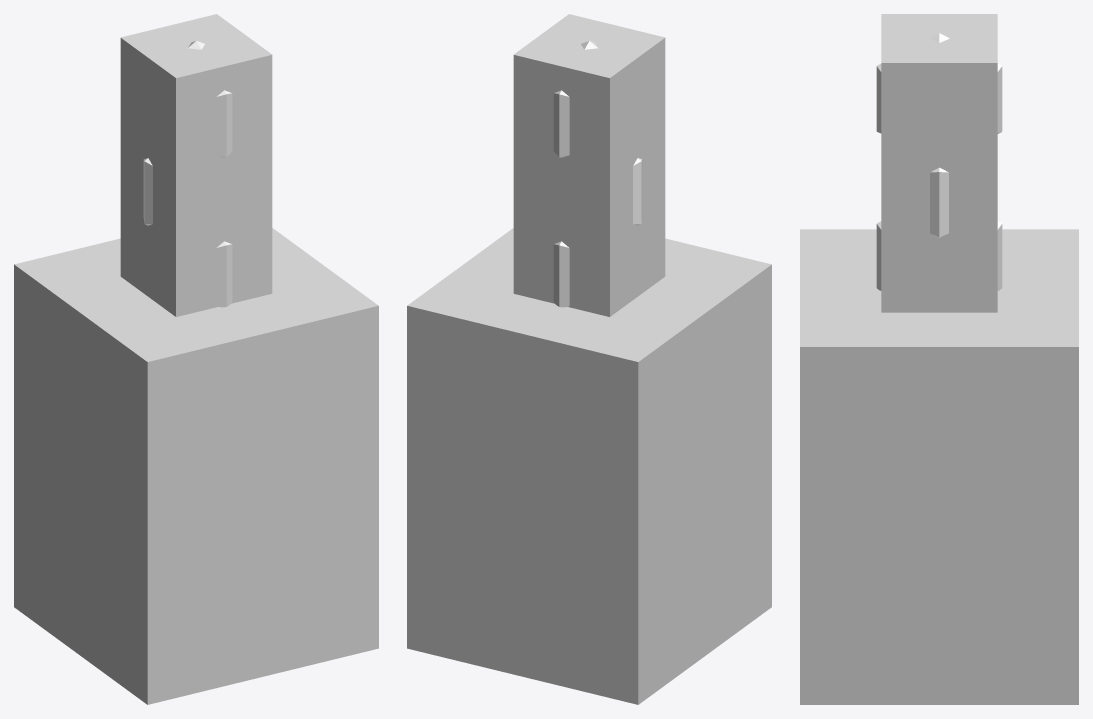
Rendered from hanging_lantern.glb.
The picture shows the model from 3 angles, left to right: view 1: azimuth 30°, elevation 25°; view 2: azimuth 150°, elevation 25°; view 3: azimuth 270°, elevation 25°; orthographic projection. The views are drawn at different scales.
Visible parts, largest first — view 1: Box.001, Box.002, Torus.003, Torus.001, Torus.002; view 2: Box.001, Box.002, Torus.003, Torus.001, Torus.002; view 3: Box.001, Box.002, Torus.002, Torus.003, Torus.001.
Boxes of the visible parts, box(x1,y1,x2,y2) form: Box.001: box(14, 228, 378, 704); Box.002: box(120, 14, 272, 316); Torus.003: box(188, 41, 232, 157); Torus.001: box(216, 241, 232, 307); Torus.002: box(143, 158, 152, 225); Box.001: box(407, 228, 771, 704); Box.002: box(513, 14, 665, 316); Torus.003: box(553, 41, 597, 157); Torus.001: box(553, 241, 569, 307); Torus.002: box(633, 158, 642, 225); Box.001: box(800, 229, 1078, 704); Box.002: box(881, 14, 997, 312); Torus.002: box(930, 167, 948, 237); Torus.003: box(876, 33, 1002, 133); Torus.001: box(876, 221, 1002, 290).
Size of the model in its own units: 2.4 by 5.82 by 2.4.
Materials: 6 (6 with a texture image).
